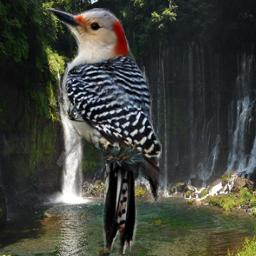Woodpecker: (47, 8, 162, 254)
